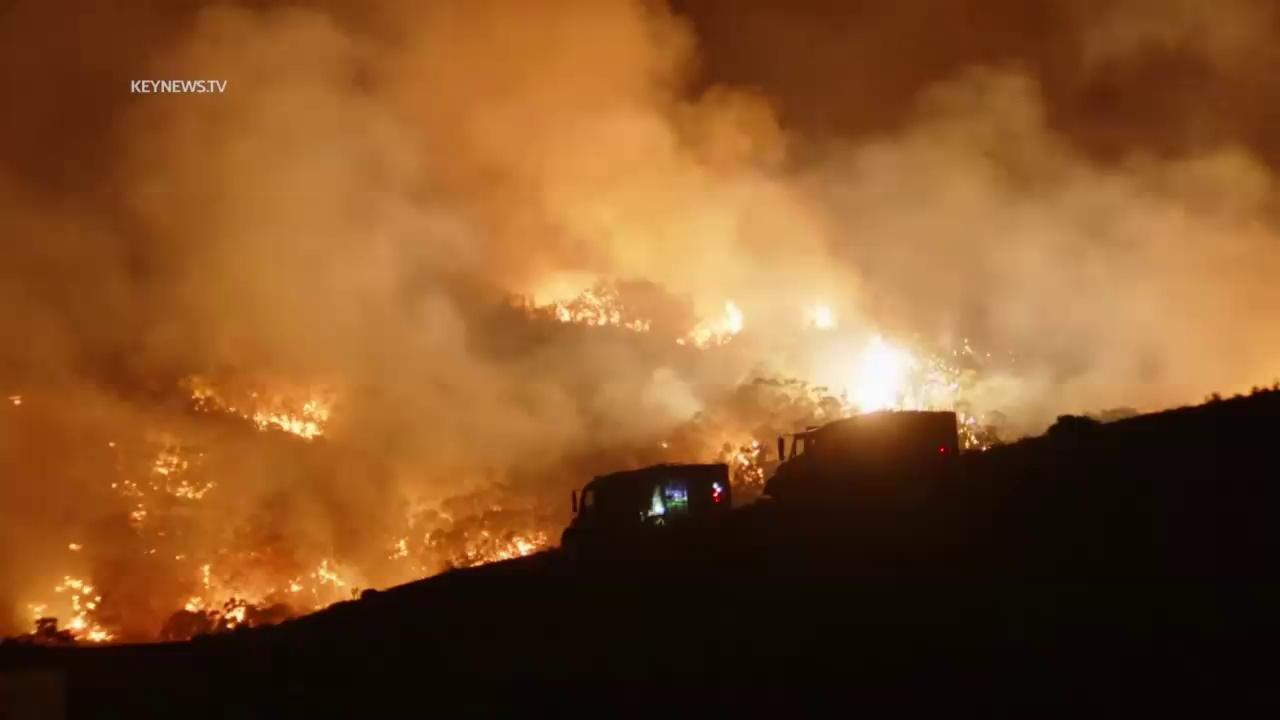fire: (839, 332, 963, 413), (55, 572, 122, 646), (148, 443, 221, 505), (449, 528, 550, 570), (251, 398, 333, 442), (730, 439, 767, 486), (310, 559, 347, 587), (191, 386, 225, 414), (723, 297, 746, 338), (26, 599, 50, 636), (225, 596, 247, 630), (811, 300, 833, 330), (386, 535, 409, 561), (185, 595, 208, 615), (197, 562, 211, 591), (283, 576, 305, 593), (129, 503, 148, 521), (6, 394, 24, 406), (67, 542, 85, 553)
smoke: (0, 0, 1280, 654)
